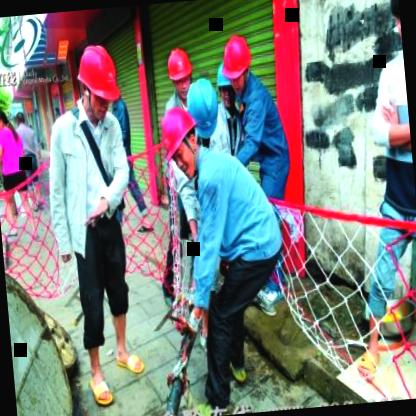head: (386, 0, 403, 51), (0, 106, 11, 136), (13, 108, 28, 128)
helmet: (156, 100, 208, 180), (72, 40, 122, 123), (182, 72, 225, 148), (219, 32, 255, 98), (164, 44, 196, 100), (215, 60, 238, 114)
